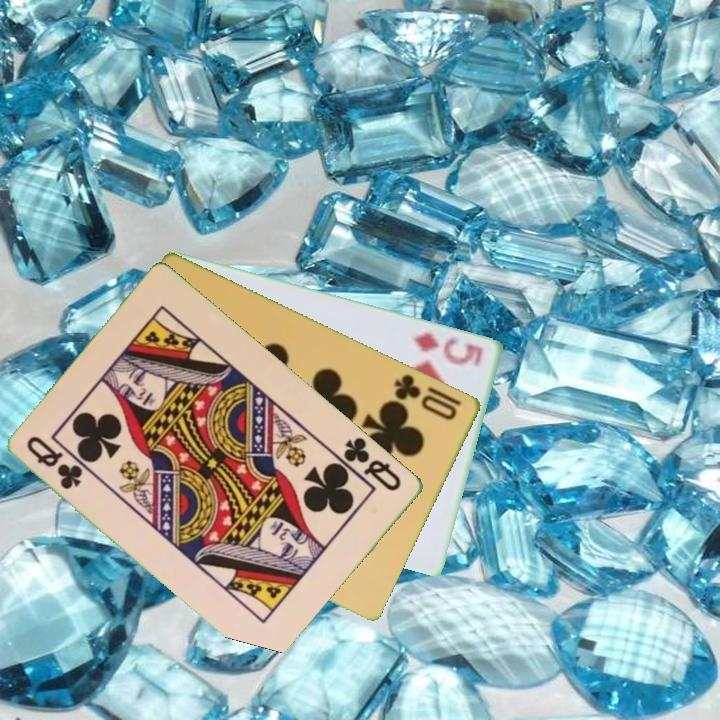10c: (391, 370, 461, 423)
5d: (409, 328, 486, 369)
Qc: (332, 433, 405, 494), (24, 432, 87, 493)
